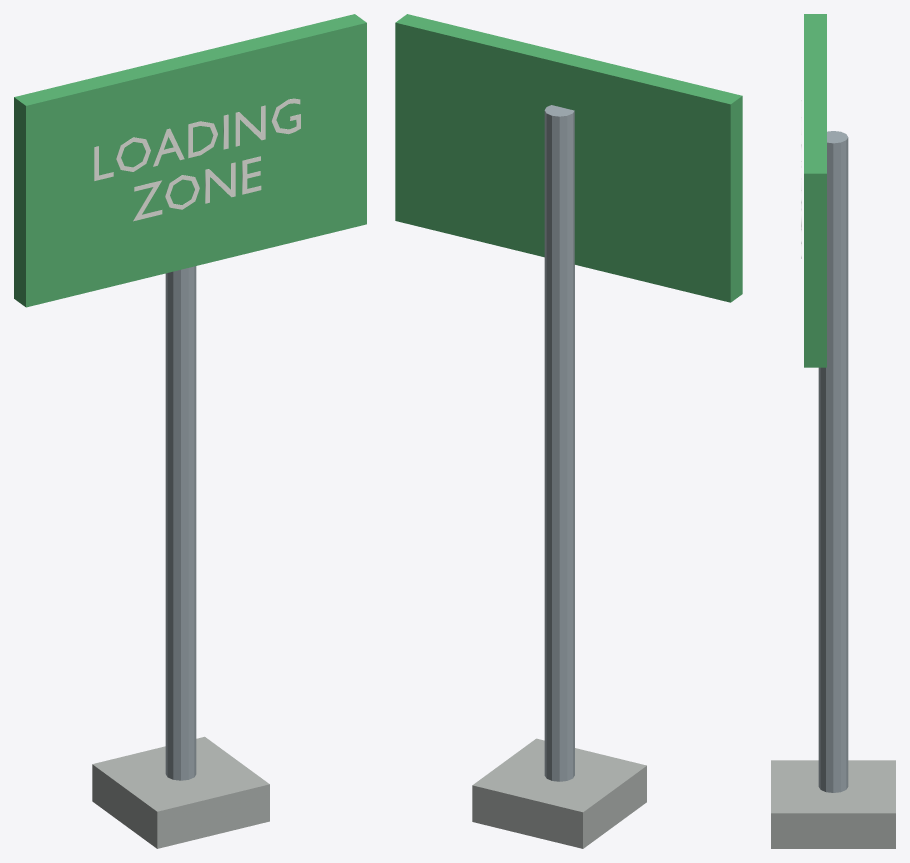
The model's file is TR_Sign_Loading.glb.
3 renders of one model, left to right at view 1: azimuth 30°, elevation 25°; view 2: azimuth 150°, elevation 25°; view 3: azimuth 270°, elevation 25°, orthographic. The views are drawn at different scales.
Parts seen in each view (by area): view 1: TR_Sign_Loading; view 2: TR_Sign_Loading; view 3: TR_Sign_Loading.
Boxes of the visible parts, box(x1,y1,x2,y2) form: TR_Sign_Loading: box(14, 14, 366, 848); TR_Sign_Loading: box(395, 14, 742, 848); TR_Sign_Loading: box(771, 14, 895, 848).
Size of the model in its own units: 1.15 by 2.44 by 0.38.
